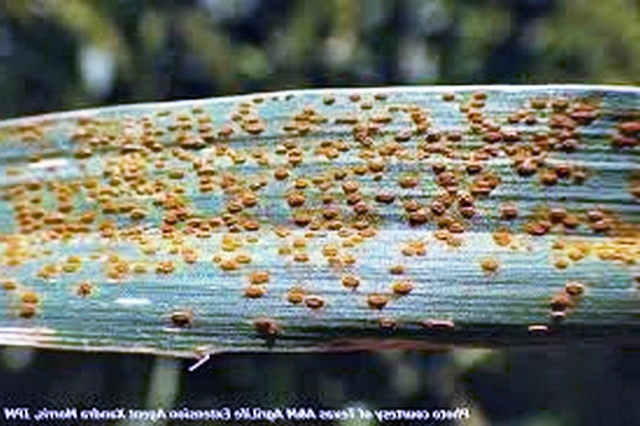Leaf Rust: (38, 79, 586, 331)
